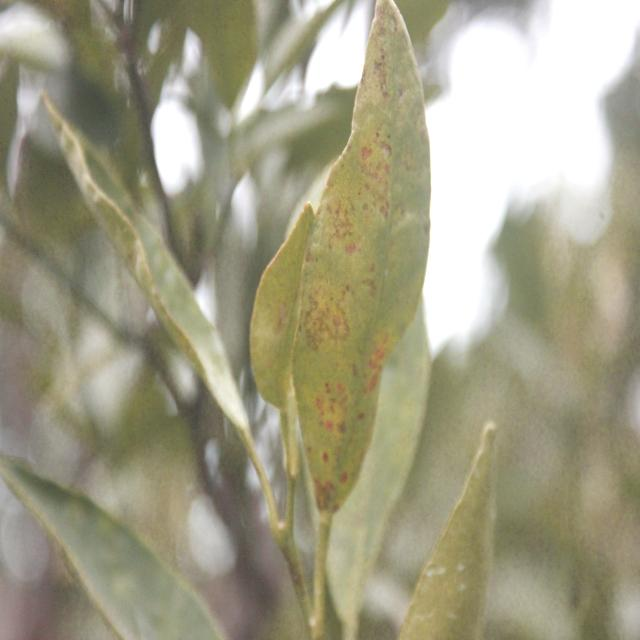canker: (283, 8, 432, 532)
